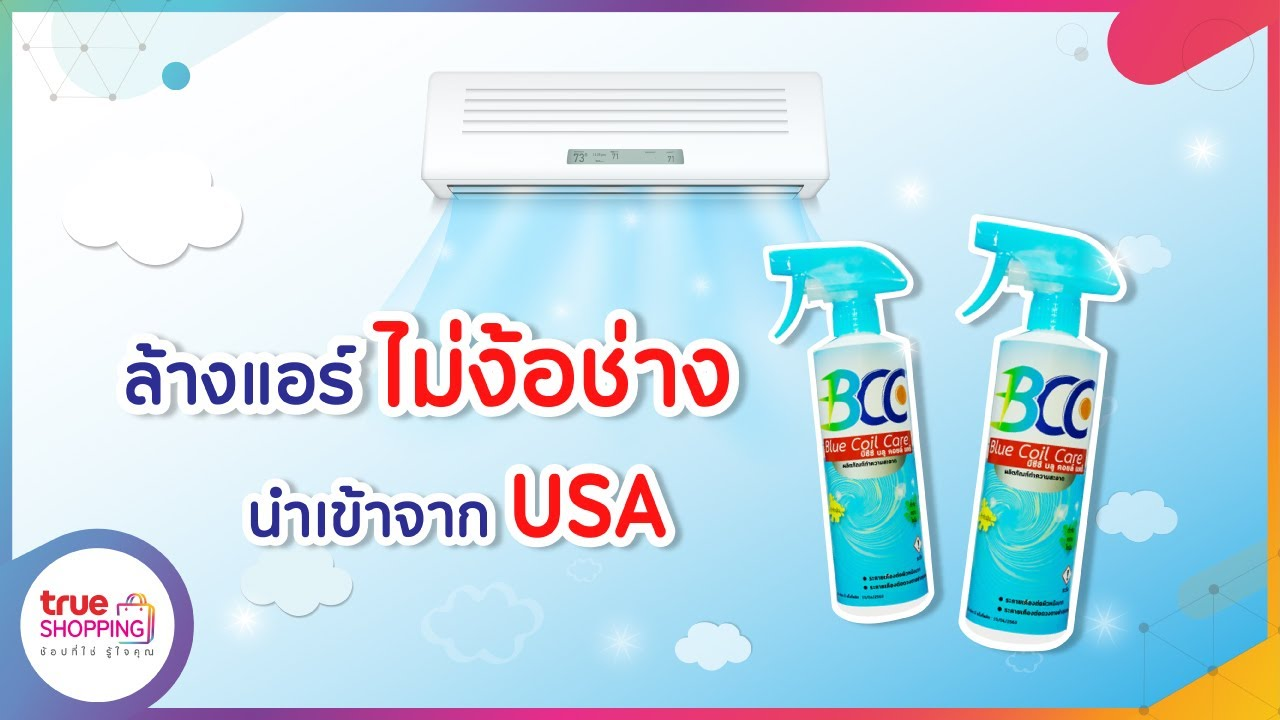Cleaning_solution: (947, 203, 1137, 662), (758, 233, 939, 628)
